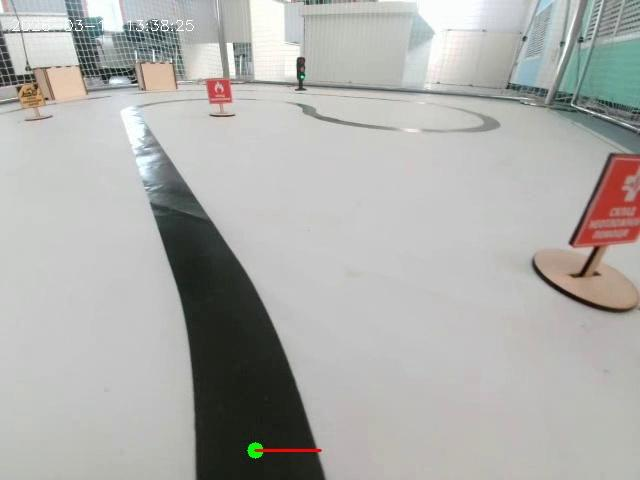fire: (190, 75, 248, 120)
industrial: (22, 74, 50, 123)
medical: (504, 142, 640, 329)
